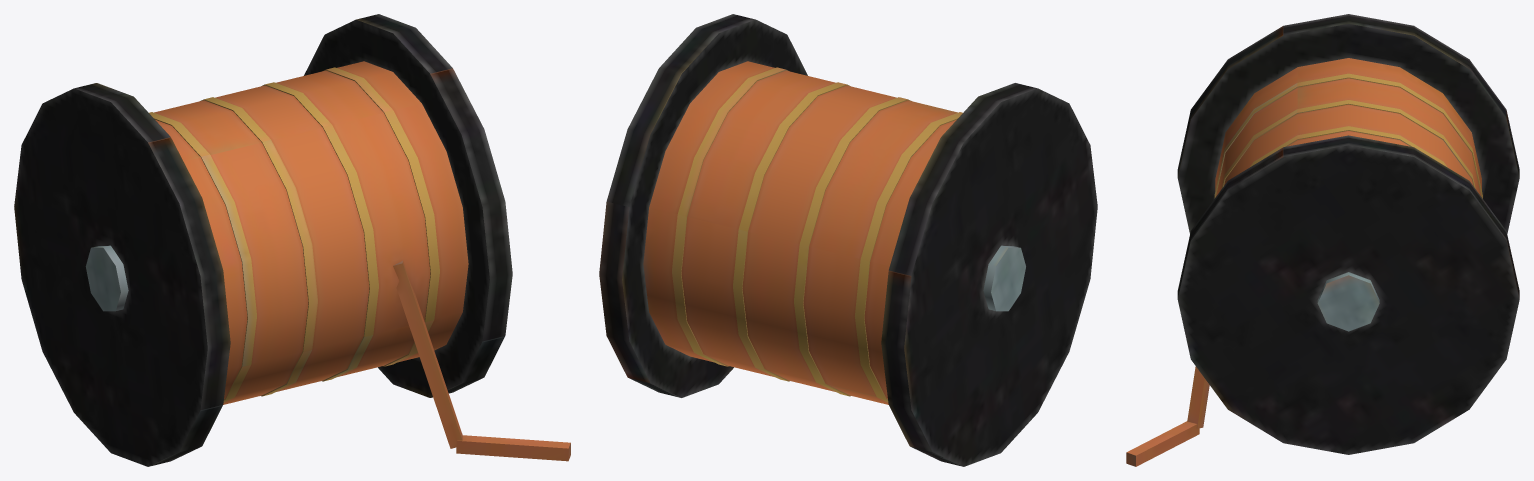
Rendered from copper_wire.glb.
3 renders of one model, left to right at view 1: azimuth 30°, elevation 25°; view 2: azimuth 150°, elevation 25°; view 3: azimuth 270°, elevation 25°, orthographic. The views are drawn at different scales.
Parts seen in each view (by area): view 1: te_res_copper_wire; view 2: te_res_copper_wire; view 3: te_res_copper_wire.
Boxes of the visible parts, x1,y1,x2,y2 form: te_res_copper_wire: [14, 14, 570, 466]; te_res_copper_wire: [599, 14, 1097, 466]; te_res_copper_wire: [1126, 14, 1519, 466].
Bounding box in the file's own units: 0.4551 × 0.44 × 0.5062.
1 material, 1 textured.
